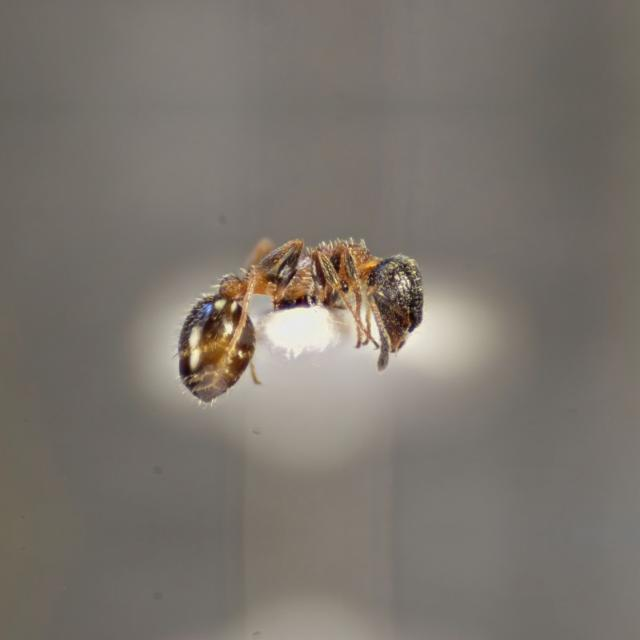Temnothorax: (146, 204, 448, 416)
